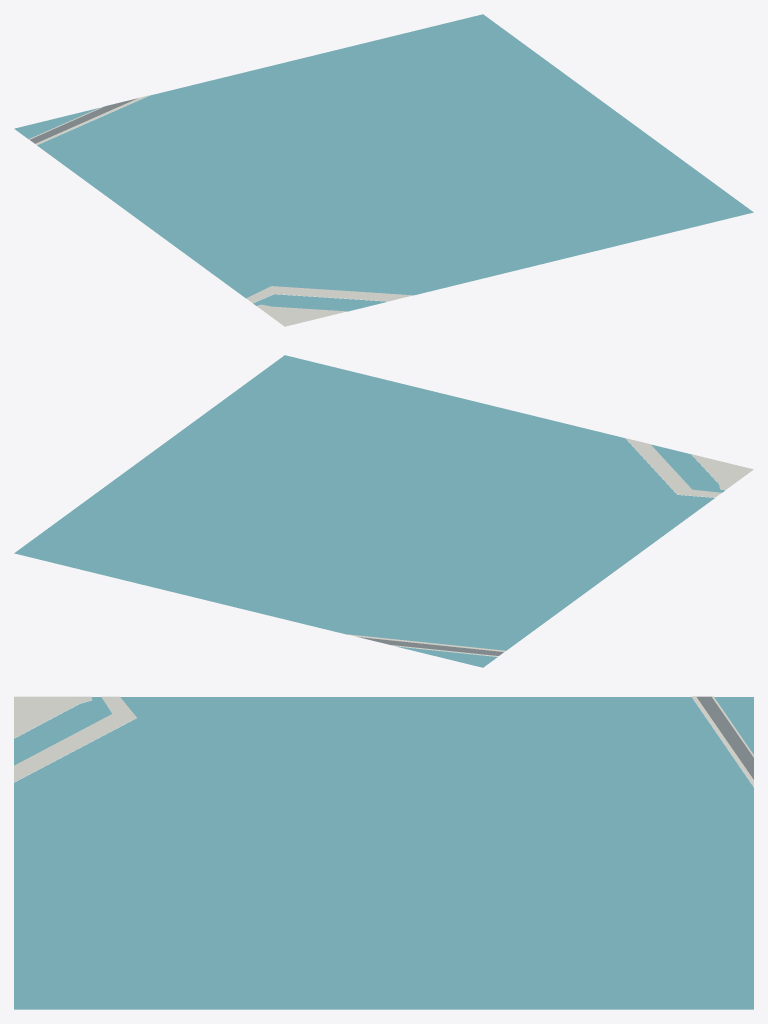
3 renders of one model, top to bottom at view 1: azimuth 30°, elevation 25°; view 2: azimuth 150°, elevation 25°; view 3: azimuth 270°, elevation 25°, orthographic. The views are drawn at different scales.
Parts seen in each view (by area): view 1: city; view 2: city; view 3: city.
Boxes of the visible parts, bbox=[...] form: city: bbox=[14, 14, 753, 326]; city: bbox=[14, 355, 753, 667]; city: bbox=[14, 696, 753, 1009].
Bounding box in the file's own units: 500 × 0.4 × 500.
